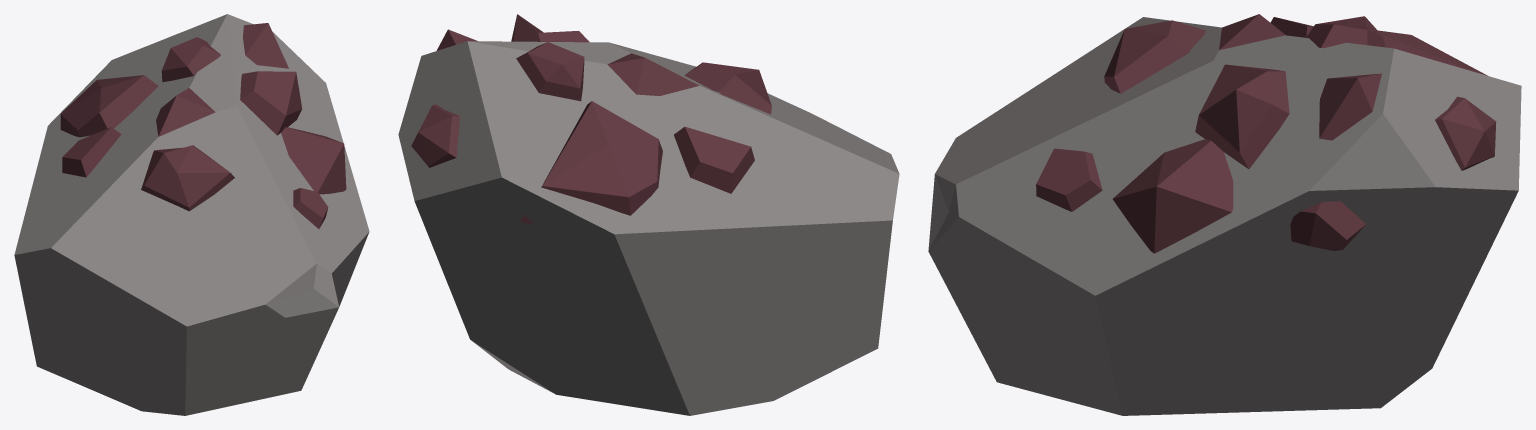
The model's file is magma-ore.fbx.
3 views of the same model, side by side, from view 1: azimuth 30°, elevation 25°; view 2: azimuth 150°, elevation 25°; view 3: azimuth 270°, elevation 25° (orthographic). The views are drawn at different scales.
Parts seen in each view (by area): view 1: magma-ore; view 2: magma-ore; view 3: magma-ore.
Part boxes in pixels (box(x1,y1,x2,y2)): magma-ore: box(14, 14, 369, 415); magma-ore: box(398, 14, 899, 415); magma-ore: box(928, 14, 1521, 415).
Bounding box in the file's own units: 0.9265 × 0.6774 × 0.9435.
